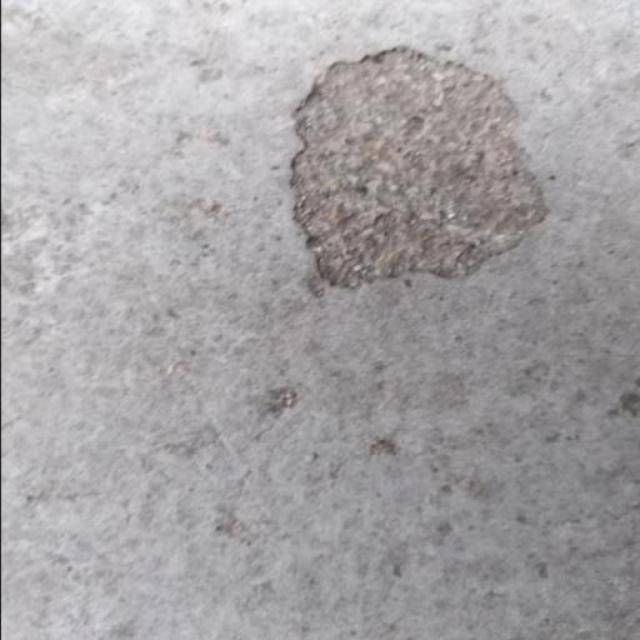D10: (286, 42, 553, 293)
